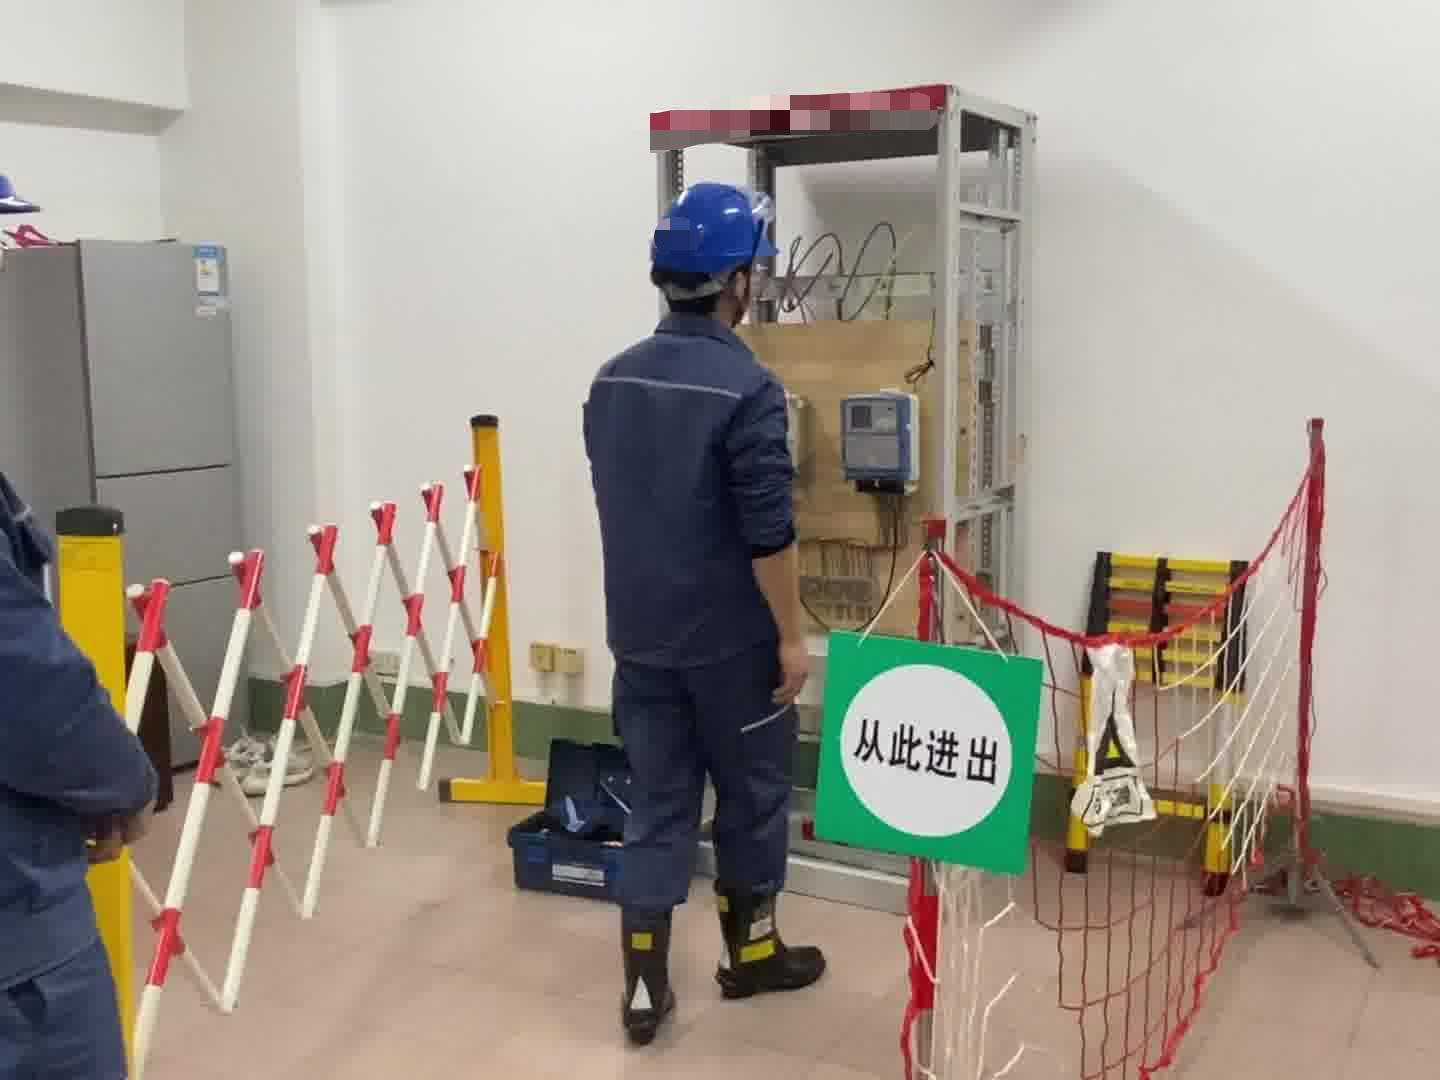halt: (652, 179, 780, 319)
inear: (719, 265, 764, 324)
